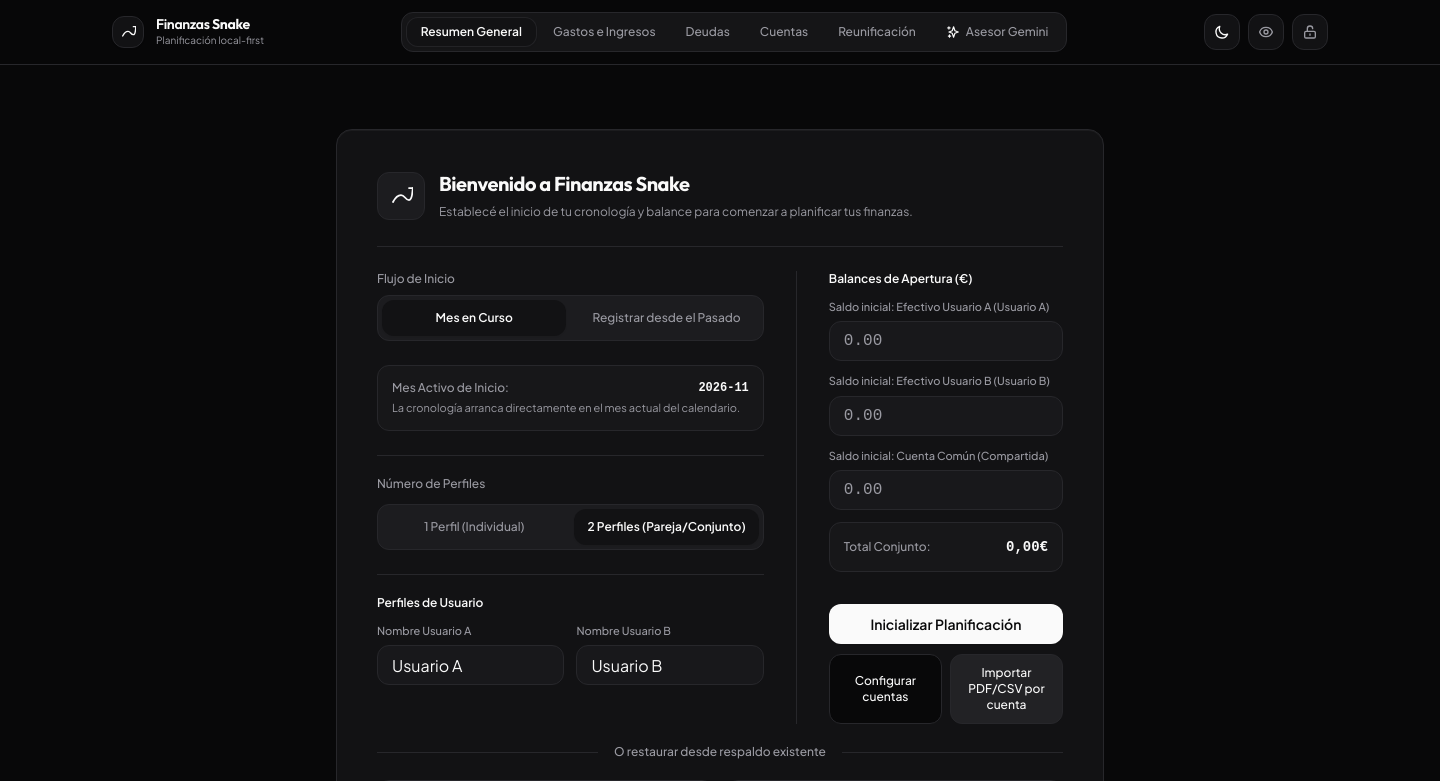
Scenario: configuración del PIN desde la interfaz › debe volver a la aplicación sin activar el cifrado al cancelar
The width and height of the screenshot is (1440, 781).
Expected: the heading "Bienvenido a Finanzas Snake" is shown, [439,171,690,196]
Click the button "Inicializar Planificación" at (946, 624), box [829,604,1063,644]
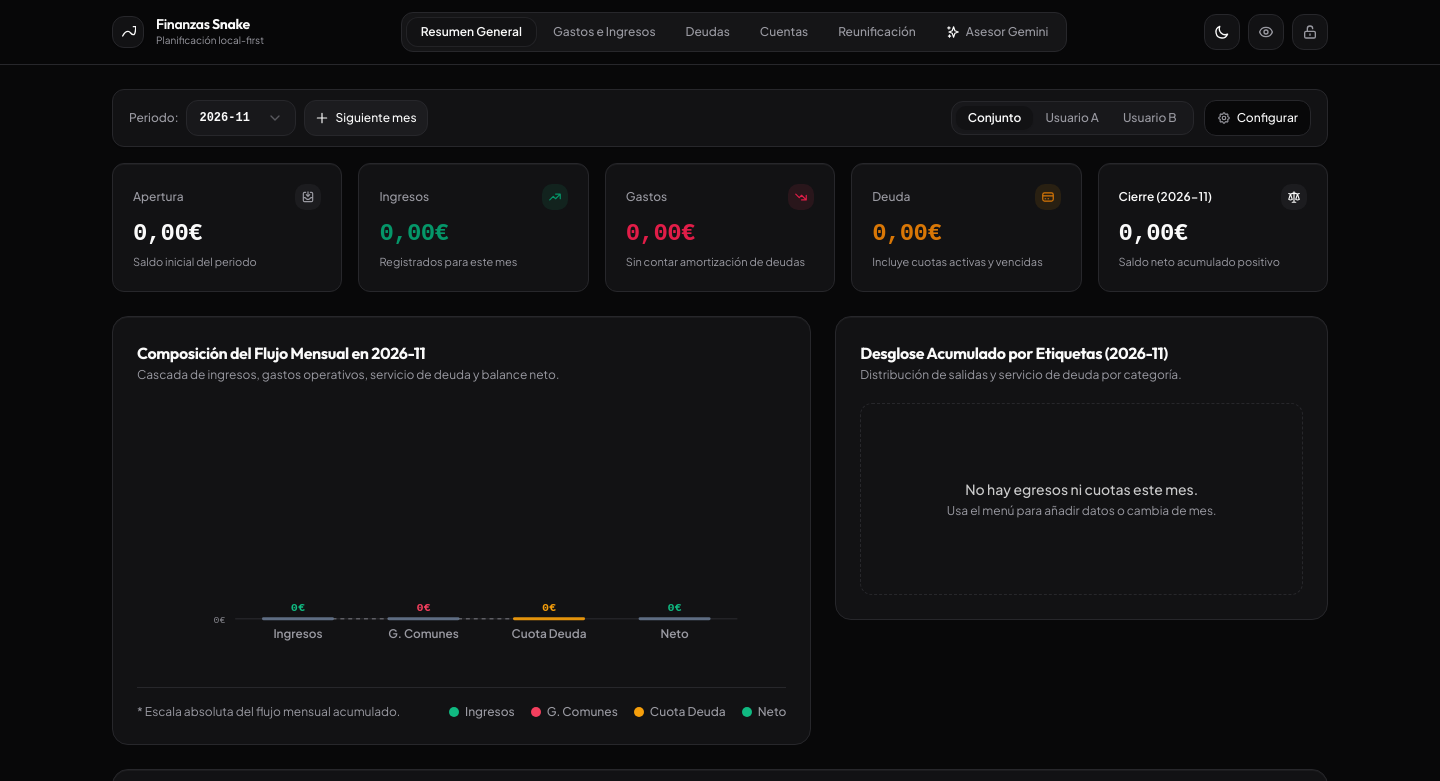
Click the button named "Configurar PIN de Seguridad" at (1310, 32), box [1292,14,1328,50]
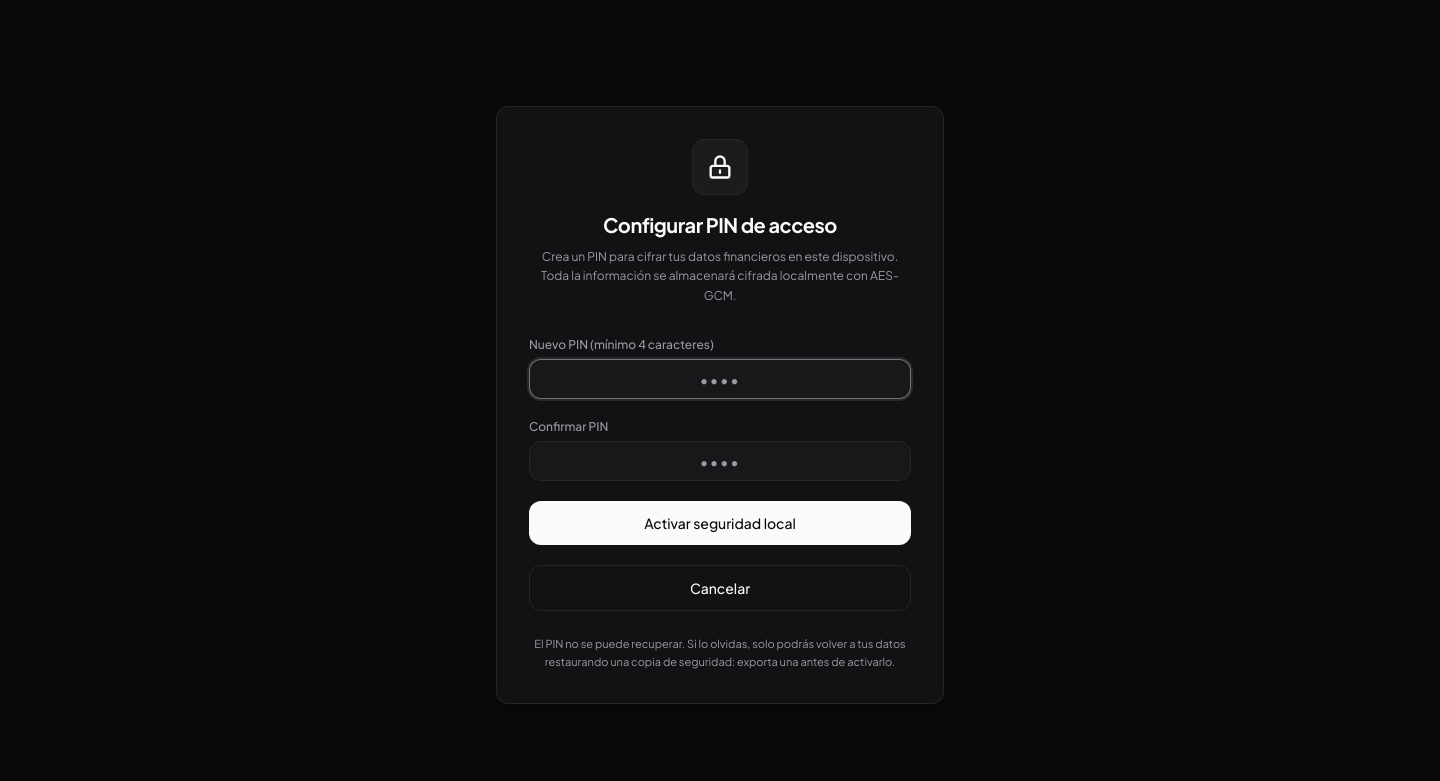
Click the button "Cancelar" at (720, 588), box [529,565,911,611]
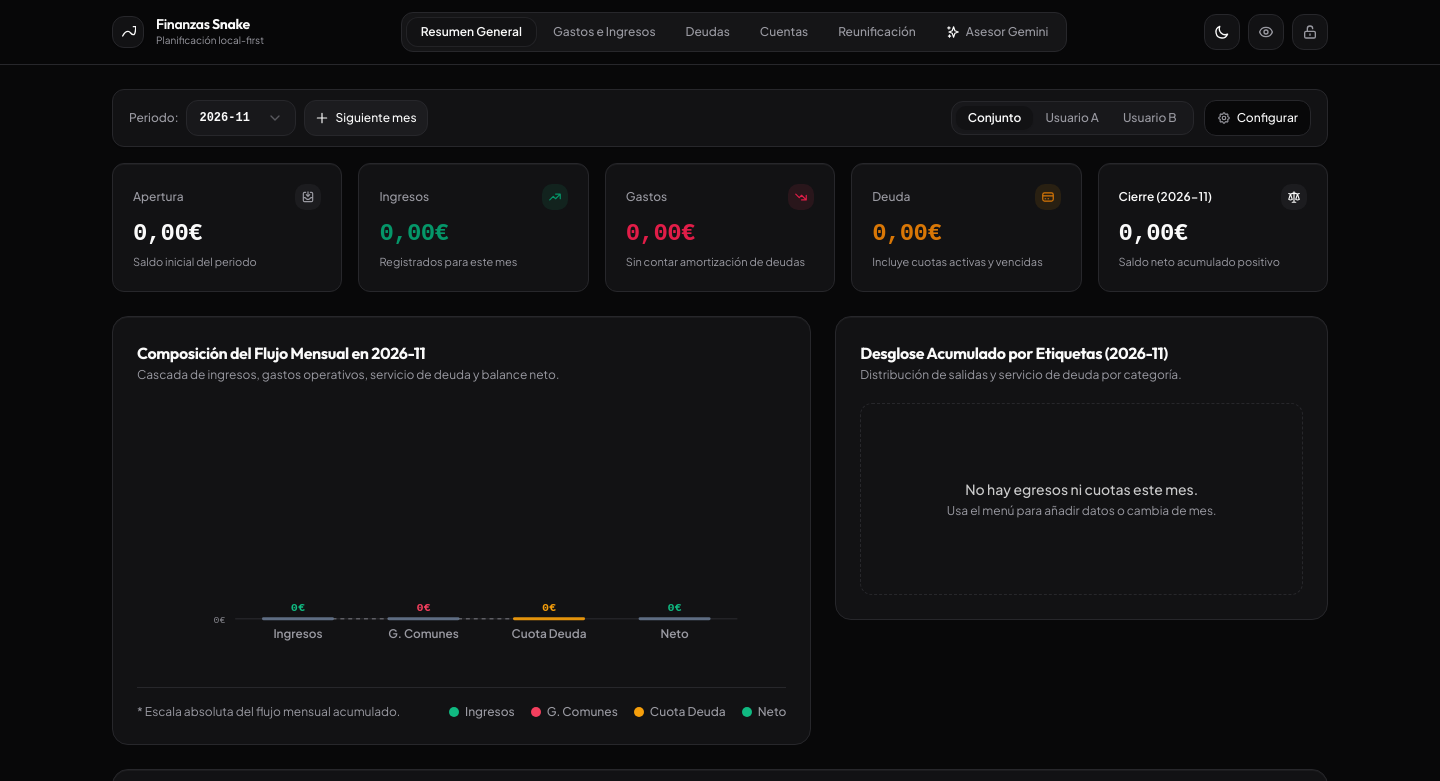
Expected: the heading "Bienvenido a Finanzas Snake" is not shown
Result: the button named "Configurar PIN de Seguridad" is shown at [1292,14,1328,50]
